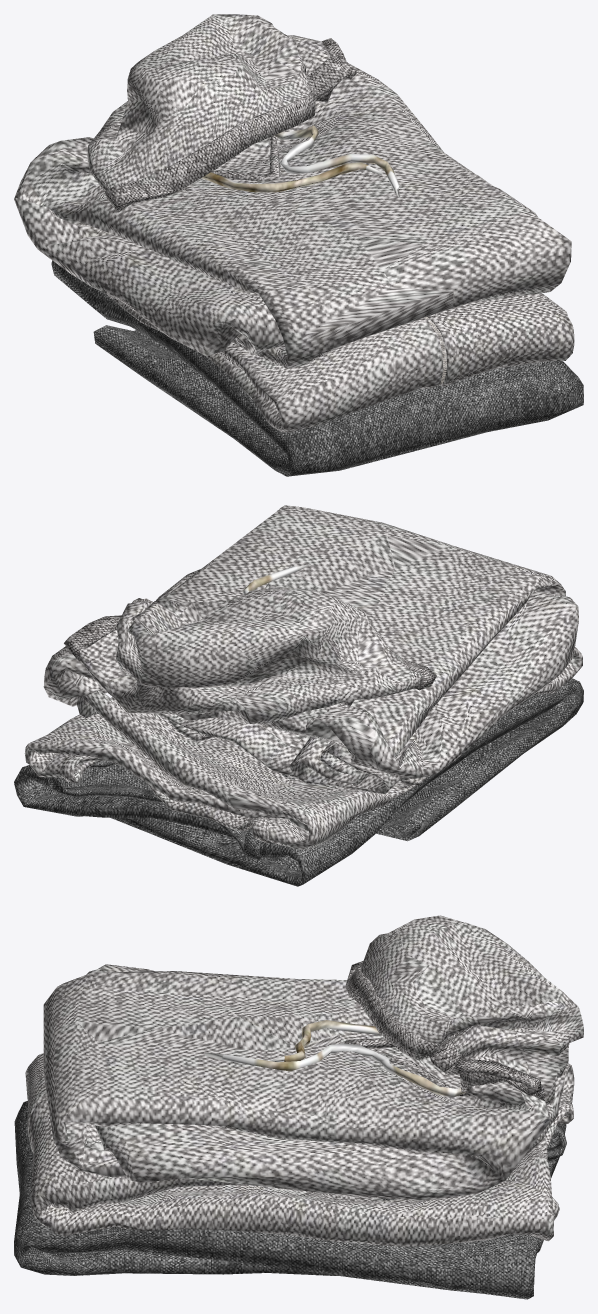
The model's file is shelf-group_folded-items1.glb.
The picture shows the model from 3 angles, top to bottom: view 1: azimuth 30°, elevation 25°; view 2: azimuth 150°, elevation 25°; view 3: azimuth 270°, elevation 25°; orthographic projection. The views are drawn at different scales.
Parts seen in each view (by area): view 1: cloth4459.001, cloth4461.001, cloth4460.001, lace_sweater002.001; view 2: cloth4459.001, cloth4460.001, cloth4461.001, lace_sweater002.001; view 3: cloth4459.001, cloth4460.001, cloth4461.001, lace_sweater002.001.
Boxes of the visible parts, x1=… form: cloth4459.001: x1=14, y1=14, x2=571, y2=368; cloth4461.001: x1=51, y1=260, x2=583, y2=476; cloth4460.001: x1=107, y1=293, x2=574, y2=432; lace_sweater002.001: x1=202, y1=125, x2=400, y2=197; cloth4459.001: x1=43, y1=505, x2=578, y2=793; cloth4460.001: x1=24, y1=647, x2=582, y2=849; cloth4461.001: x1=14, y1=678, x2=583, y2=886; lace_sweater002.001: x1=242, y1=564, x2=310, y2=594; cloth4459.001: x1=43, y1=915, x2=583, y2=1200; cloth4460.001: x1=25, y1=1053, x2=574, y2=1246; cloth4461.001: x1=14, y1=1101, x2=566, y2=1299; lace_sweater002.001: x1=204, y1=1020, x2=465, y2=1097.
Size of the model in its own units: 0.3163 by 0.1897 by 0.3843.
Materials: 6 (5 with a texture image).
